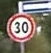limite 30: (5, 12, 37, 42)
